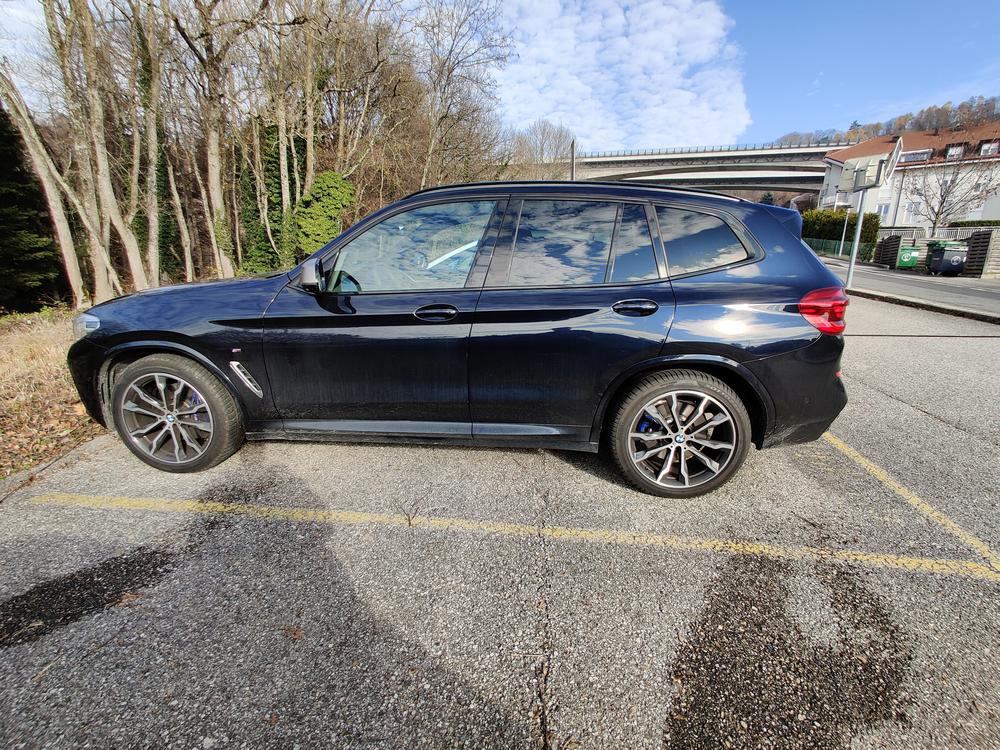mobil: (62, 172, 855, 502)
